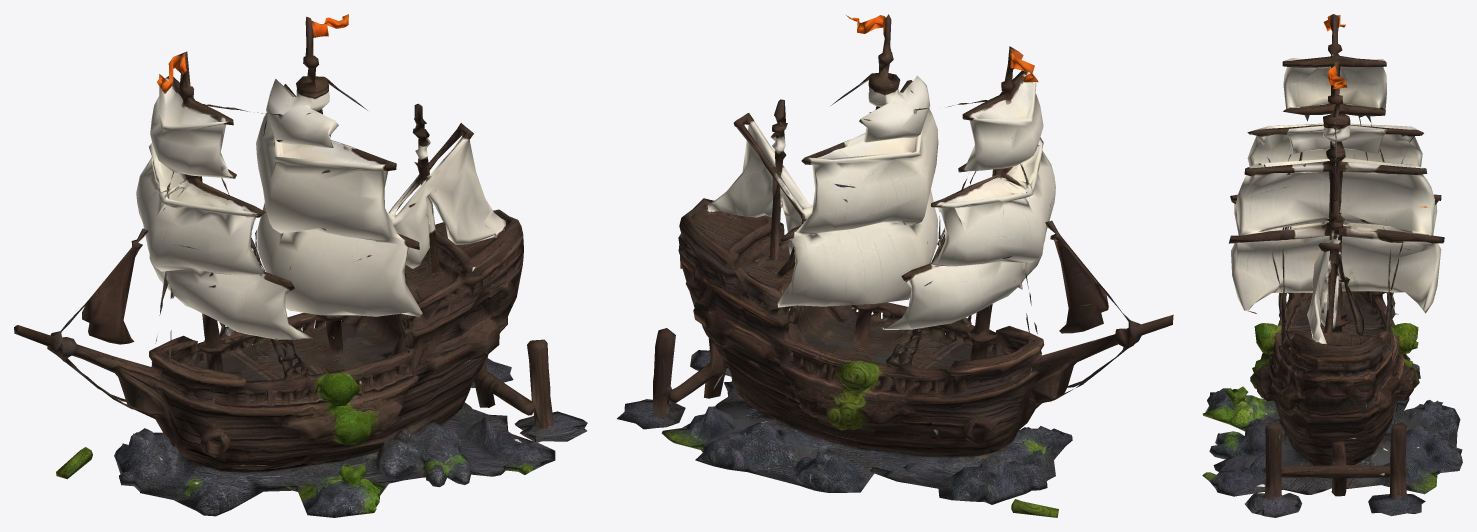
The model's file is prop_wreck.glb.
The picture shows the model from 3 angles, left to right: view 1: azimuth 30°, elevation 25°; view 2: azimuth 150°, elevation 25°; view 3: azimuth 270°, elevation 25°; orthographic projection. The views are drawn at different scales.
Size of the model in its own units: 1.9 by 1.49 by 0.9751.
Materials: 1 (1 with a texture image).
